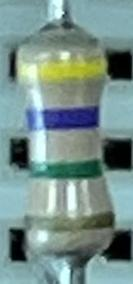Blue: (24, 103, 100, 132)
Green: (29, 157, 105, 177)
Side-Silver: (26, 211, 115, 233)
Yellow: (18, 55, 106, 87)
